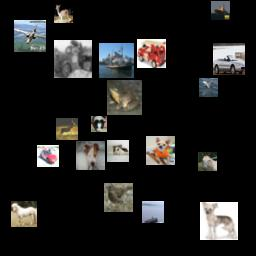airplane: (14, 20, 46, 52)
automobile: (213, 43, 245, 75), (37, 145, 59, 167)
bird: (104, 183, 133, 212), (199, 78, 218, 97)
cat: (107, 140, 129, 162)
deer: (56, 118, 78, 140), (54, 4, 73, 23)
dog: (200, 202, 238, 240), (76, 141, 105, 170), (146, 136, 175, 165), (91, 116, 107, 132)
frog: (107, 80, 142, 115)
ship: (99, 43, 134, 78), (142, 201, 164, 223), (211, 1, 230, 20)
truck: (54, 40, 92, 78), (137, 39, 166, 68)
